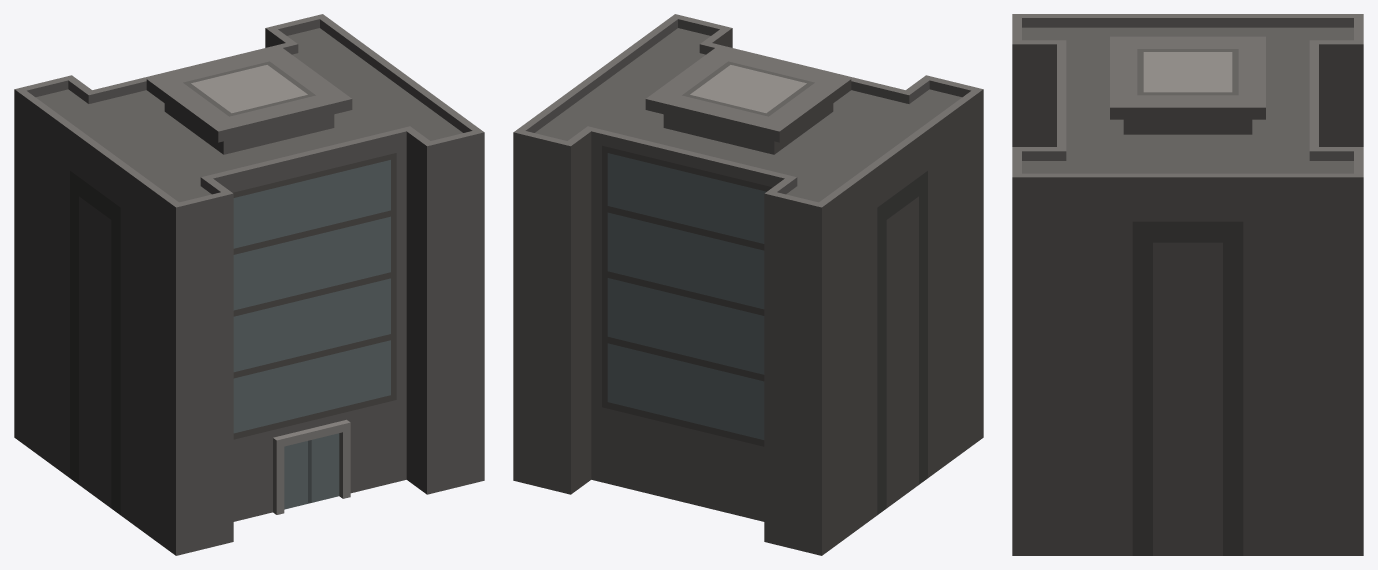
The model's file is SM_Bld_Office_01.fbx.
The picture shows the model from 3 angles, left to right: view 1: azimuth 30°, elevation 25°; view 2: azimuth 150°, elevation 25°; view 3: azimuth 270°, elevation 25°; orthographic projection. The views are drawn at different scales.
Visible parts, largest first — view 1: SM_Bld_Office_01; view 2: SM_Bld_Office_01; view 3: SM_Bld_Office_01.
Boxes of the visible parts, bbox=[...] form: SM_Bld_Office_01: bbox=[14, 14, 484, 555]; SM_Bld_Office_01: bbox=[513, 14, 983, 555]; SM_Bld_Office_01: bbox=[1012, 14, 1363, 555].
Bounding box in the file's own units: 16.27 × 18.66 × 14.77.
